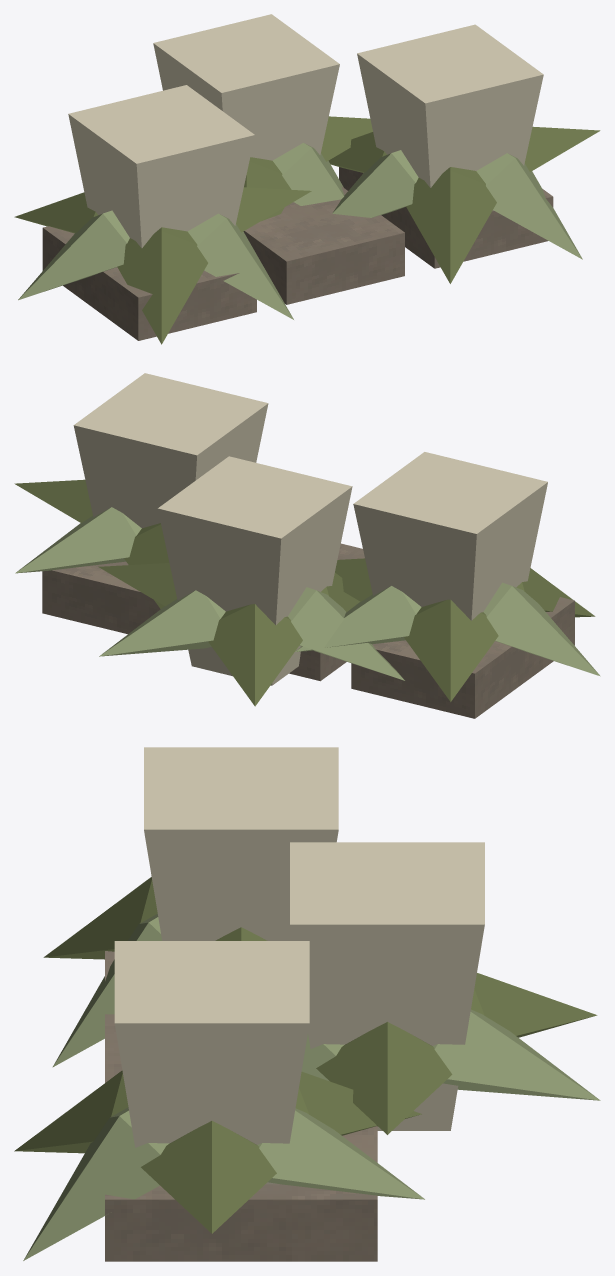
Rendered from leafy_crop_stage_3.glb.
3 views of the same model, one above another, from view 1: azimuth 30°, elevation 25°; view 2: azimuth 150°, elevation 25°; view 3: azimuth 270°, elevation 25° (orthographic). The views are drawn at different scales.
Parts seen in each view (by area): view 1: root; view 2: root; view 3: root.
Boxes of the visible parts, x1,y1,x2,y2 form: root: [14, 14, 600, 344]; root: [14, 373, 600, 718]; root: [14, 747, 600, 1261].
Size of the model in its own units: 0.9674 by 0.265 by 0.6024.
Materials: 1 (1 with a texture image).
